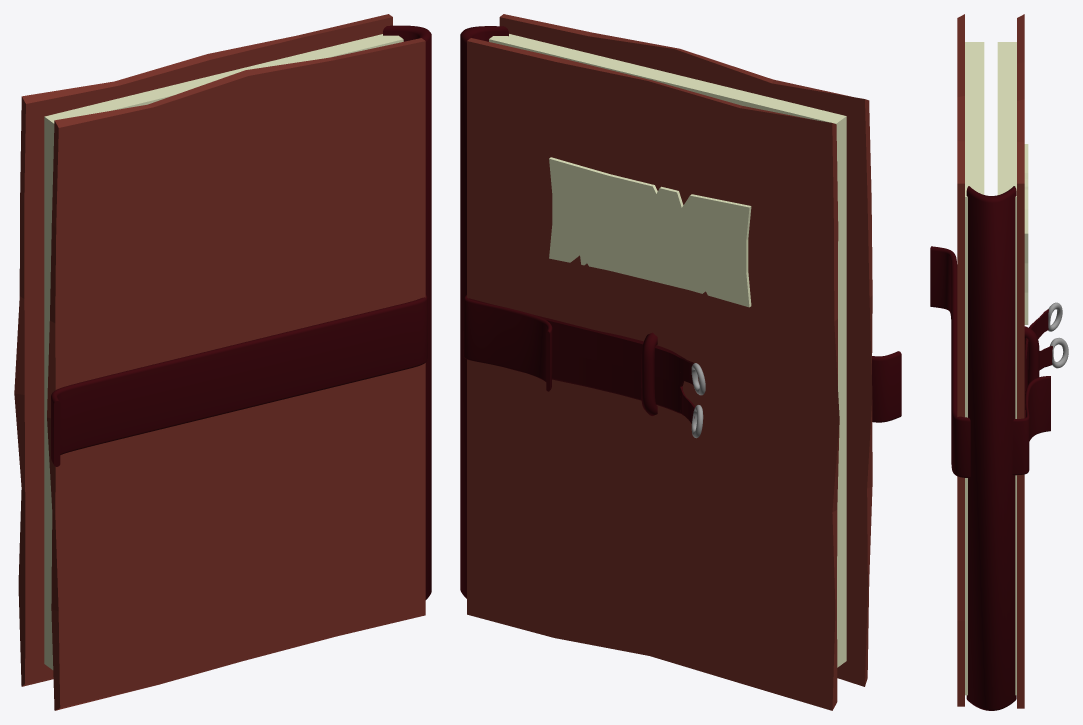
Rendered from book.fbx.
3 renders of one model, left to right at view 1: azimuth 30°, elevation 25°; view 2: azimuth 150°, elevation 25°; view 3: azimuth 270°, elevation 25°, orthographic. The views are drawn at different scales.
Parts seen in each view (by area): view 1: back, front, root; view 2: front, back, root; view 3: root, front, back.
Part boxes in pixels (left/top/right/bottom): back: left=47, top=38, right=427, bottom=710; front: left=14, top=14, right=403, bottom=686; root: left=383, top=25, right=431, bottom=599; front: left=463, top=38, right=839, bottom=710; back: left=489, top=14, right=901, bottom=686; root: left=460, top=26, right=508, bottom=598; root: left=966, top=186, right=1016, bottom=710; front: left=997, top=14, right=1068, bottom=708; back: left=930, top=14, right=984, bottom=706.
Bounding box in the file's own units: 223 × 309 × 71.75.
